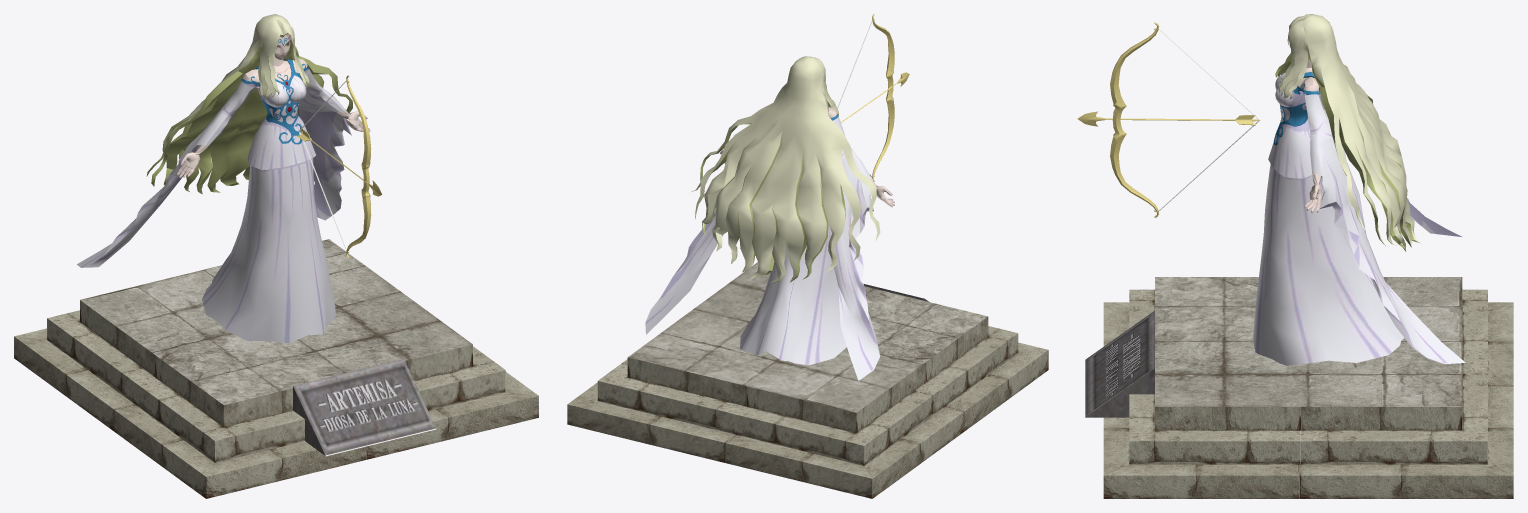
Rendered from artemis.glb.
3 renders of one model, left to right at view 1: azimuth 30°, elevation 25°; view 2: azimuth 150°, elevation 25°; view 3: azimuth 270°, elevation 25°, orthographic. The views are drawn at different scales.
Visible parts, largest first — view 1: Object_2, Object_6, Object_3, Object_4; view 2: Object_2, Object_6, Object_3; view 3: Object_2, Object_6, Object_3, Object_4.
Boxes of the visible parts, x1,y1,x2,y2 form: Object_2: [14, 239, 538, 498]; Object_6: [77, 14, 370, 343]; Object_3: [297, 75, 381, 258]; Object_4: [241, 35, 308, 144]; Object_2: [567, 262, 1048, 498]; Object_6: [645, 56, 894, 380]; Object_3: [841, 14, 909, 181]; Object_2: [1085, 277, 1513, 498]; Object_6: [1253, 14, 1465, 365]; Object_3: [1077, 22, 1259, 217]; Object_4: [1274, 72, 1319, 145].
Size of the model in its own units: 1.77 by 1.89 by 1.89.
5 materials, 5 textured.
